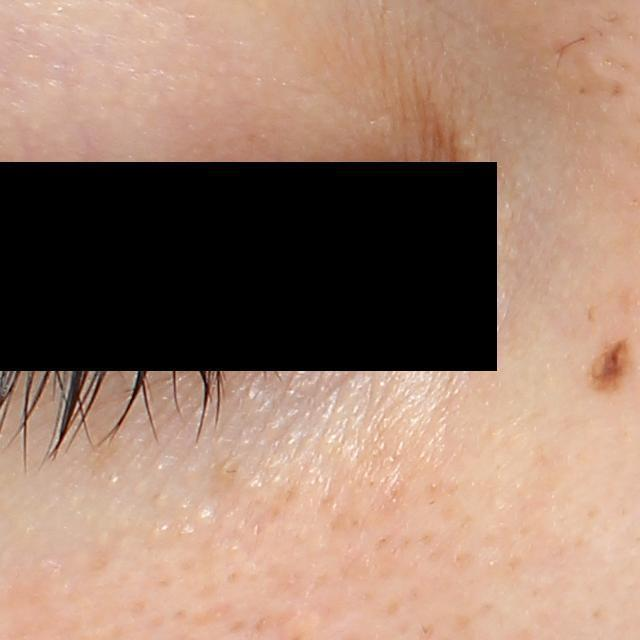nevus: (586, 335, 637, 394)
